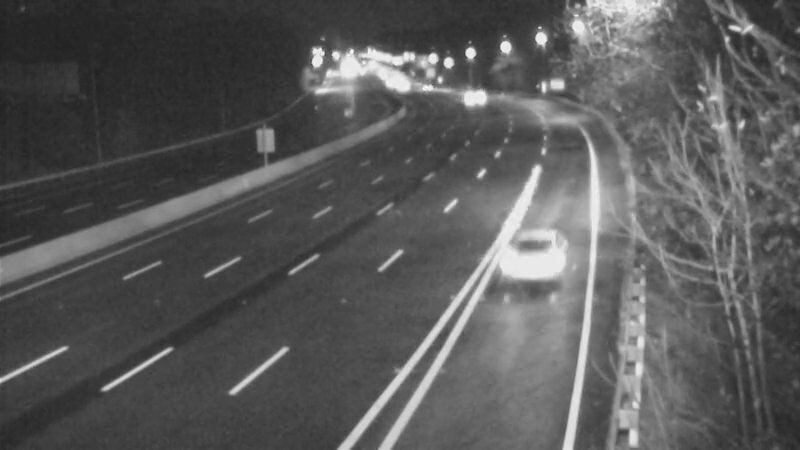vehicle: (491, 220, 571, 300), (404, 65, 454, 115), (441, 69, 491, 119)
